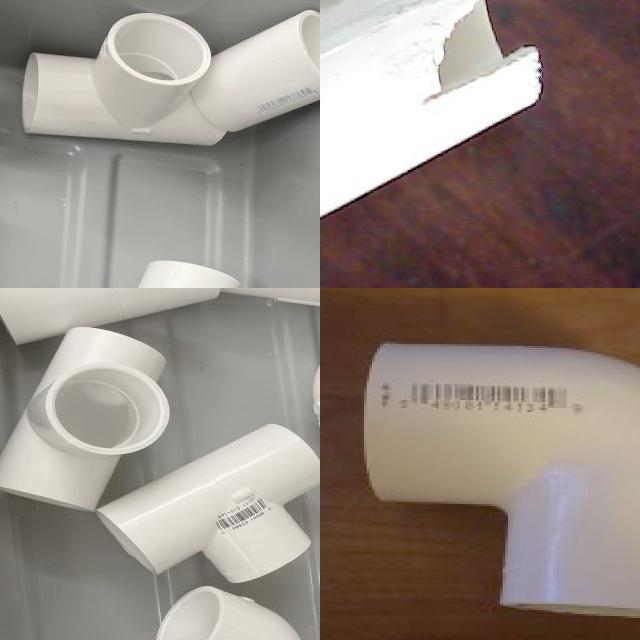Defective: (391, 0, 543, 116)
L Joint: (362, 343, 640, 618), (154, 587, 301, 640)
T Joint: (320, 0, 544, 222), (96, 422, 320, 584), (0, 331, 164, 513)
